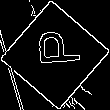P_W: (28, 35, 82, 75)
